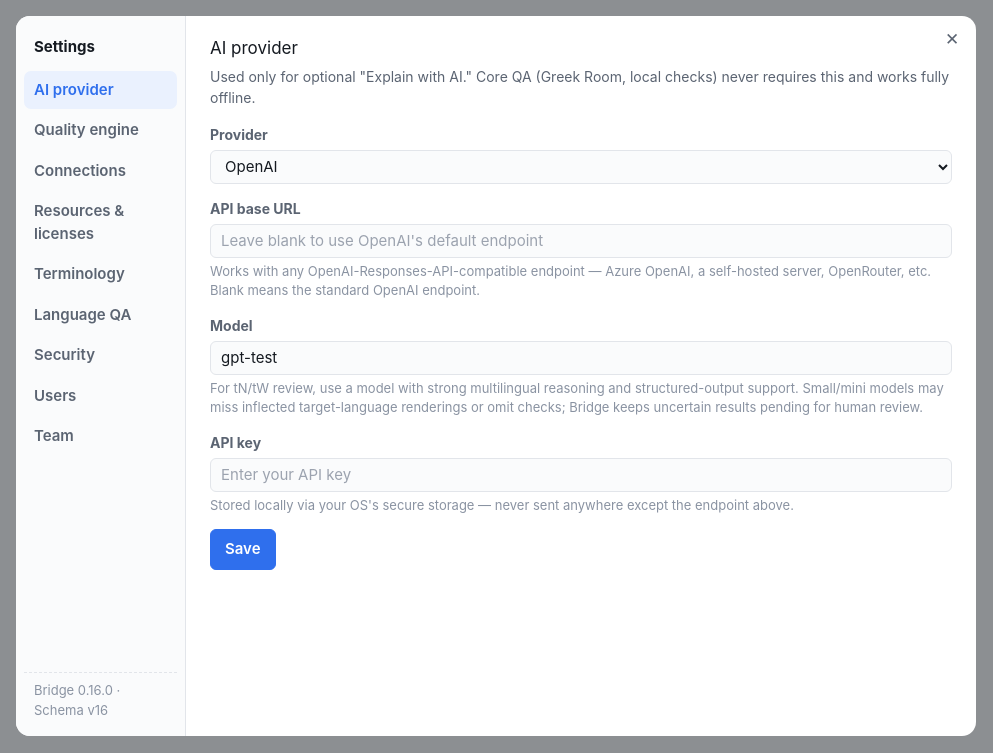
Users pane (#237) › opens the Users pane from the nav and lists the users with the signed-in one marked
The width and height of the screenshot is (993, 753).
Click the button "Users".
click(100, 396)  # box [24,376,177,415]
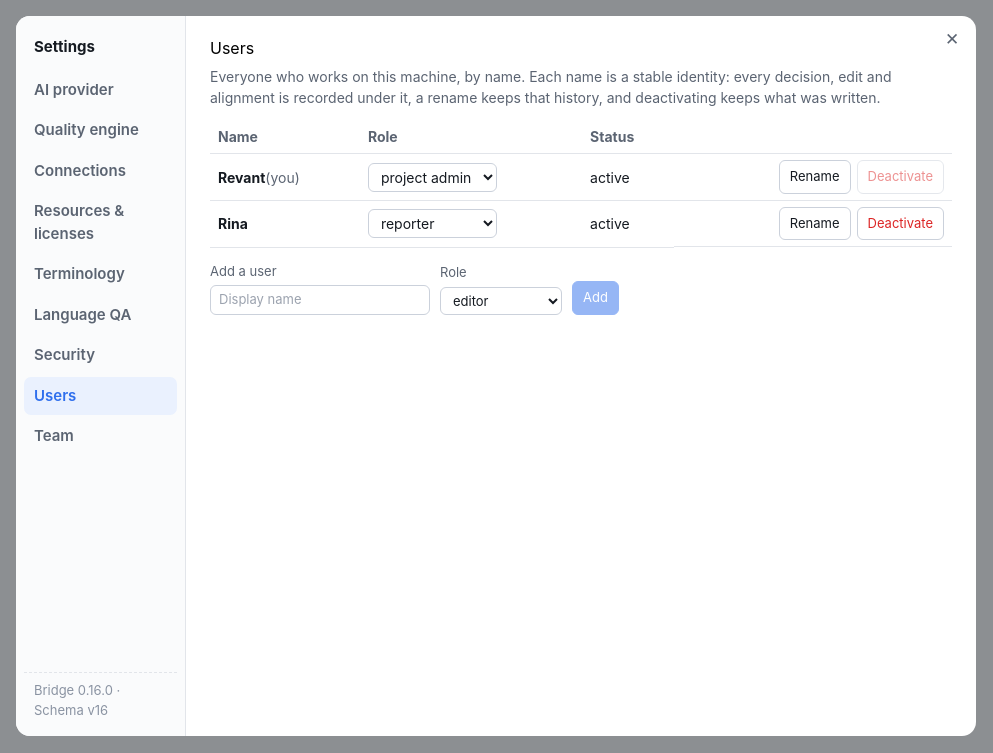
Expected: the text "Rina" is shown, [218,215,248,232]
Expected: the text "(you)" is shown, [265,168,300,186]
Expected: the button "Add" is shown, [572,281,619,314]
